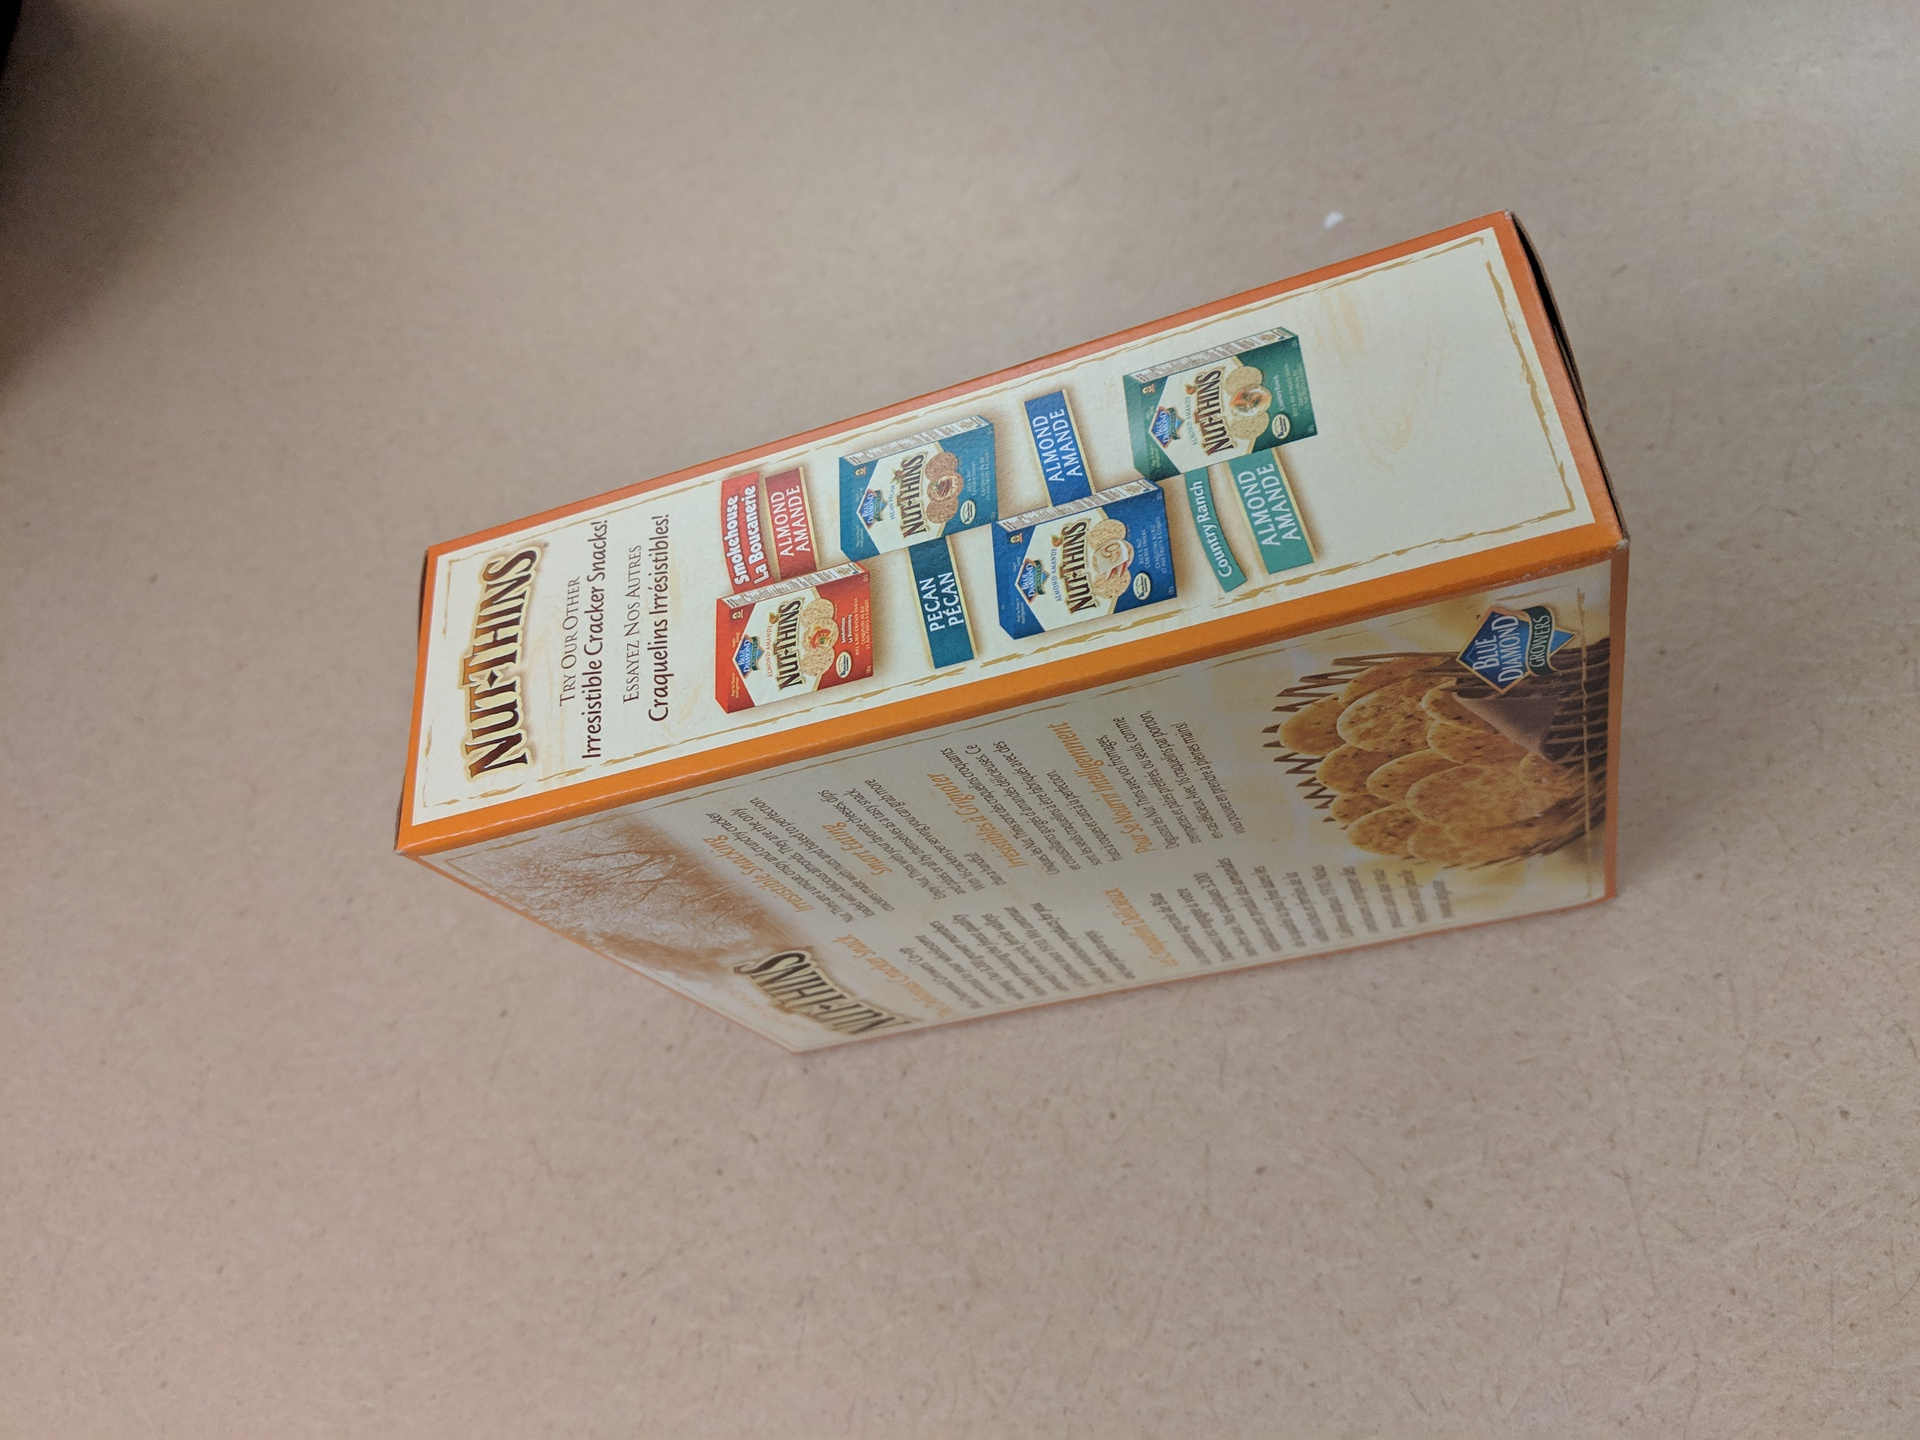blue_diamond_nut_thins_almond_cheddar: (358, 192, 1696, 1074)
